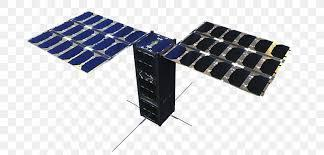antenna: (110, 117, 148, 155), (174, 80, 195, 102), (170, 113, 195, 129), (125, 97, 141, 109)
body: (131, 28, 179, 129)
solar: (161, 19, 294, 99), (26, 9, 148, 75), (134, 28, 177, 58)
